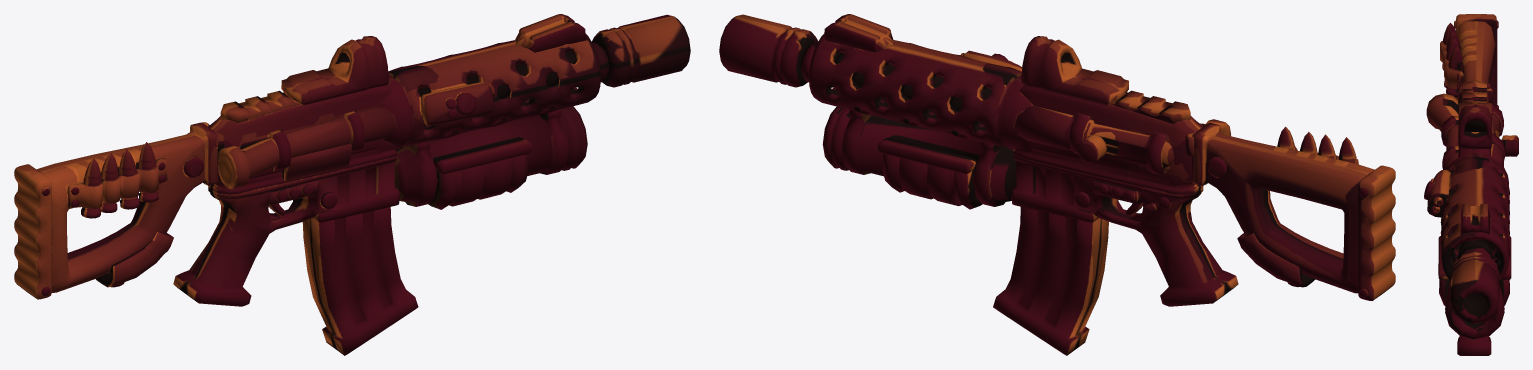
The picture shows the model from 3 angles, left to right: view 1: azimuth 30°, elevation 25°; view 2: azimuth 150°, elevation 25°; view 3: azimuth 270°, elevation 25°; orthographic projection. The views are drawn at different scales.
Visible parts, largest first — view 1: ChellShading; view 2: ChellShading; view 3: ChellShading.
Boxes of the visible parts, x1=… form: ChellShading: x1=14, y1=14, x2=690, y2=355; ChellShading: x1=719, y1=14, x2=1395, y2=355; ChellShading: x1=1424, y1=14, x2=1518, y2=355.
Size of the model in its own units: 15.72 by 6.95 by 2.34.
